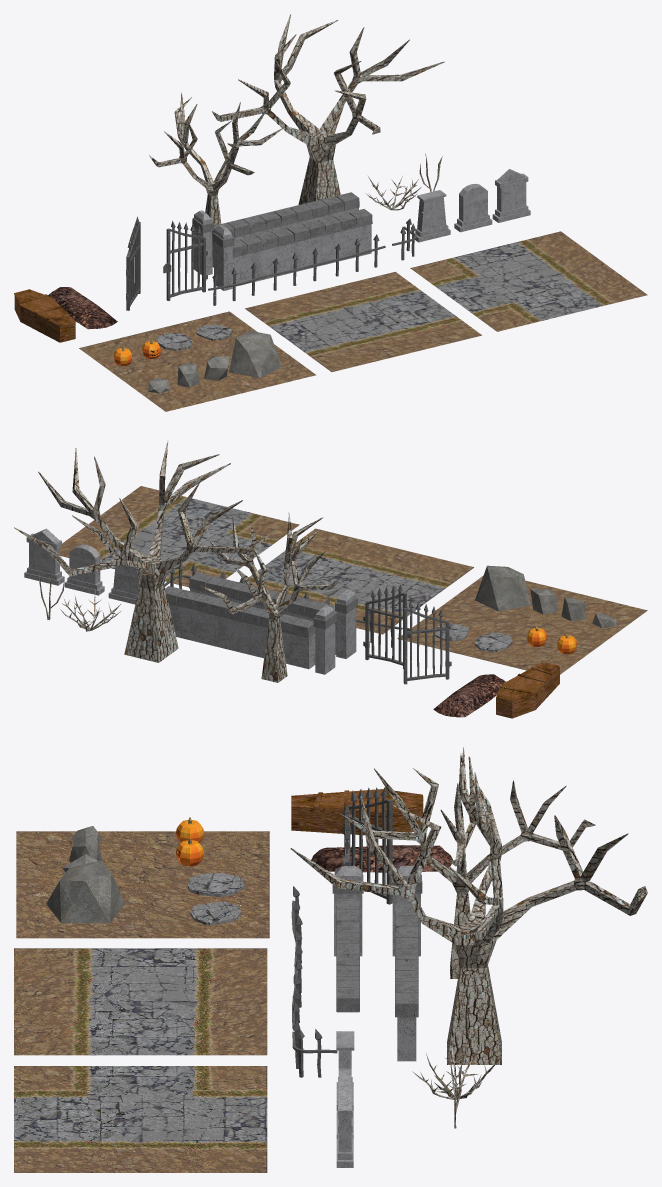
File: HalloweenGraveyardFreeVersion.glb
3 renders of one model, top to bottom at view 1: azimuth 30°, elevation 25°; view 2: azimuth 150°, elevation 25°; view 3: azimuth 270°, elevation 25°, orthographic. The views are drawn at different scales.
Visible parts, largest first — view 1: Road_Turn, Floor_Road, Floor1, DeadTree2, WallWithCorner, DeadTree1, Wall, Rock1, IronGate1, Railing, Tombstone1, DirtGrave (+6 smaller); view 2: DeadTree2, Floor_Road, Floor1, Road_Turn, Wall, DeadTree1, WallWithCorner, IronGate2, Rock1, IronGate1, DirtGrave, Tombstone1 (+9 smaller); view 3: Floor_Road, Road_Turn, Floor1, DeadTree2, DeadTree1, WallWithCorner, Rock1, Wall, IronGate2, Coffin1, DirtGrave, CoffinLid1 (+9 smaller).
Part boxes in pixels (x1=…): Road_Turn: x1=410, y1=231, x2=647, y2=331; Floor_Road: x1=245, y1=271, x2=481, y2=371; Floor1: x1=79, y1=311, x2=316, y2=411; DeadTree2: x1=212, y1=14, x2=444, y2=204; WallWithCorner: x1=212, y1=209, x2=372, y2=290; DeadTree1: x1=149, y1=92, x2=284, y2=225; Wall: x1=212, y1=192, x2=359, y2=267; Rock1: x1=229, y1=331, x2=281, y2=377; IronGate1: x1=163, y1=221, x2=207, y2=300; Railing: x1=208, y1=234, x2=385, y2=305; Tombstone1: x1=492, y1=169, x2=530, y2=222; DirtGrave: x1=48, y1=287, x2=117, y2=329; DeadTree2: x1=14, y1=440, x2=268, y2=662; Floor_Road: x1=244, y1=528, x2=473, y2=634; Floor1: x1=397, y1=576, x2=647, y2=674; Road_Turn: x1=60, y1=486, x2=299, y2=587; Wall: x1=165, y1=586, x2=315, y2=669; DeadTree1: x1=200, y1=512, x2=340, y2=682; WallWithCorner: x1=189, y1=572, x2=357, y2=658; IronGate2: x1=403, y1=600, x2=451, y2=684; Rock1: x1=475, y1=565, x2=530, y2=611; IronGate1: x1=363, y1=584, x2=412, y2=668; DirtGrave: x1=433, y1=674, x2=505, y2=717; Tombstone1: x1=24, y1=528, x2=64, y2=585; Floor_Road: x1=14, y1=948, x2=267, y2=1055; Road_Turn: x1=14, y1=1066, x2=267, y2=1172; Floor1: x1=16, y1=831, x2=269, y2=938; DeadTree2: x1=290, y1=756, x2=647, y2=1064; DeadTree1: x1=340, y1=747, x2=595, y2=978; WallWithCorner: x1=332, y1=865, x2=363, y2=1012; Rock1: x1=46, y1=860, x2=124, y2=923; Wall: x1=395, y1=904, x2=418, y2=1061; IronGate2: x1=342, y1=787, x2=392, y2=904; Coffin1: x1=291, y1=796, x2=423, y2=835; DirtGrave: x1=311, y1=845, x2=452, y2=872; CoffinLid1: x1=291, y1=788, x2=423, y2=812.
Size of the model in its own units: 13.29 by 4.51 by 10.01.
Materials: 13 (12 with a texture image).
